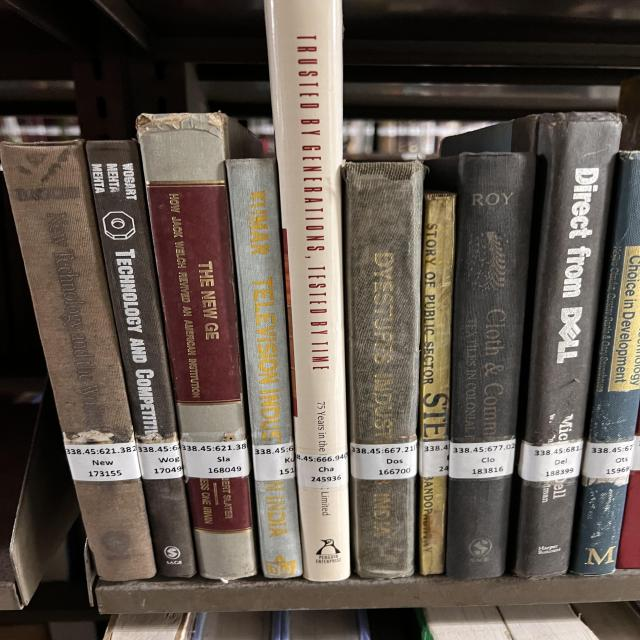Book: (442, 112, 622, 578), (0, 140, 155, 580), (137, 112, 262, 580), (265, 0, 350, 581), (87, 140, 195, 576), (428, 152, 535, 579), (343, 161, 425, 579), (227, 159, 303, 579), (570, 151, 640, 575), (418, 191, 455, 575)
Label: (65, 442, 140, 481), (448, 439, 515, 479), (518, 440, 583, 481), (182, 440, 250, 479), (350, 441, 417, 480), (582, 440, 633, 479), (297, 451, 348, 489), (137, 441, 183, 480), (252, 442, 295, 481), (418, 440, 448, 478)
